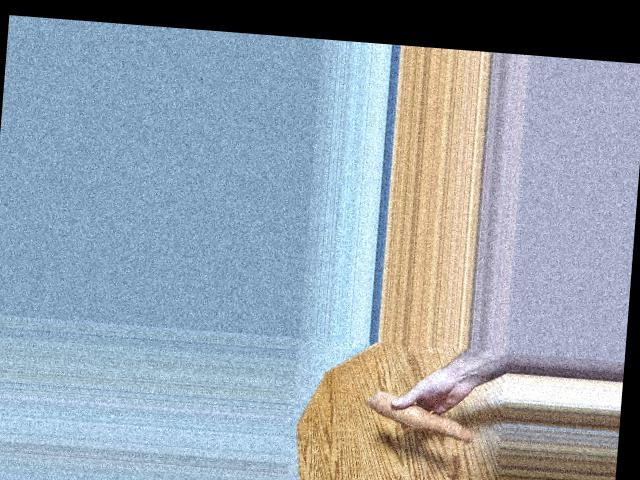sweet_potato: (367, 396, 481, 435)
